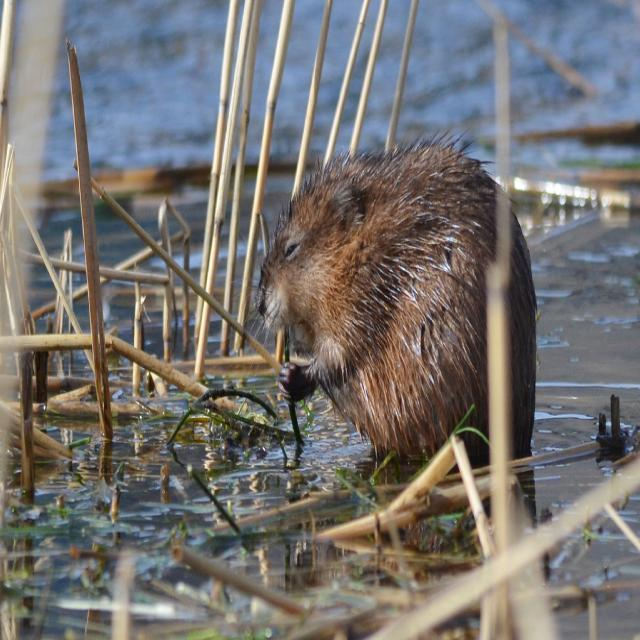rat: (256, 140, 539, 468)
